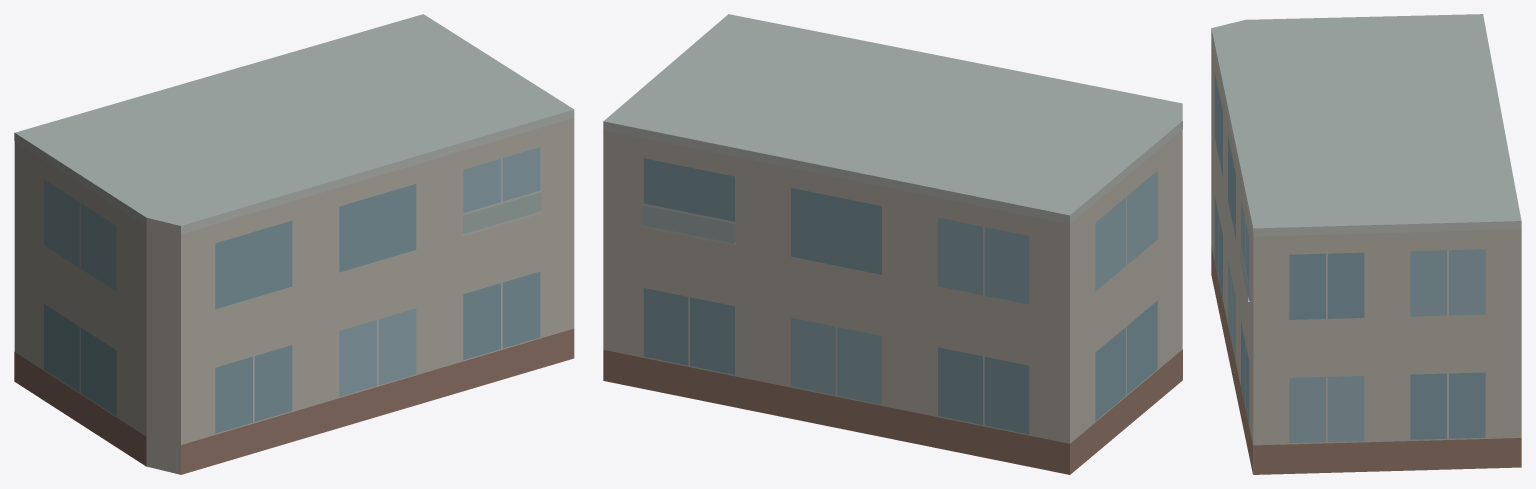
Rendered from survey-upis-32537597.glb.
3 views of the same model, side by side, from view 1: azimuth 30°, elevation 25°; view 2: azimuth 150°, elevation 25°; view 3: azimuth 270°, elevation 25° (orthographic). The views are drawn at different scales.
Visible parts, largest first — view 1: survey-upis-32537597.tmp; view 2: survey-upis-32537597.tmp; view 3: survey-upis-32537597.tmp.
Part boxes in pixels (x1=…): survey-upis-32537597.tmp: x1=14, y1=14, x2=574, y2=474; survey-upis-32537597.tmp: x1=603, y1=14, x2=1182, y2=474; survey-upis-32537597.tmp: x1=1211, y1=14, x2=1521, y2=474.
Bounding box in the file's own units: 13.63 × 7.3 × 8.34.
